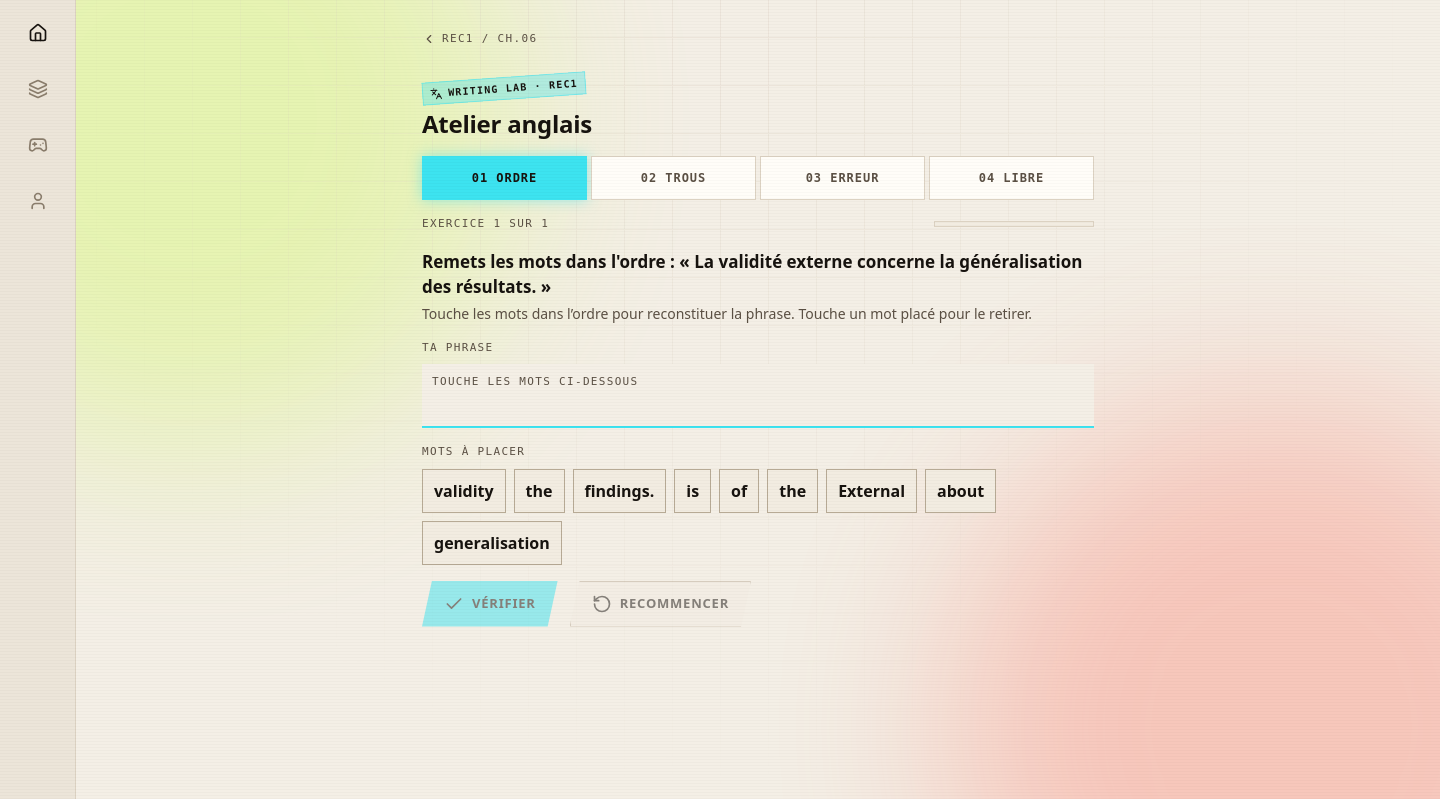
Test case: atelier anglais REC1-05 › niveau 4 : mots-clés trouvés / manquants, réponse modèle, checklist, tournures utiles
Check: the element named "Niveaux de l’atelier" is shown, box [422,156,1094,200]
Click the tab "04 LIBRE".
click(1012, 178)  # box [929,156,1094,200]
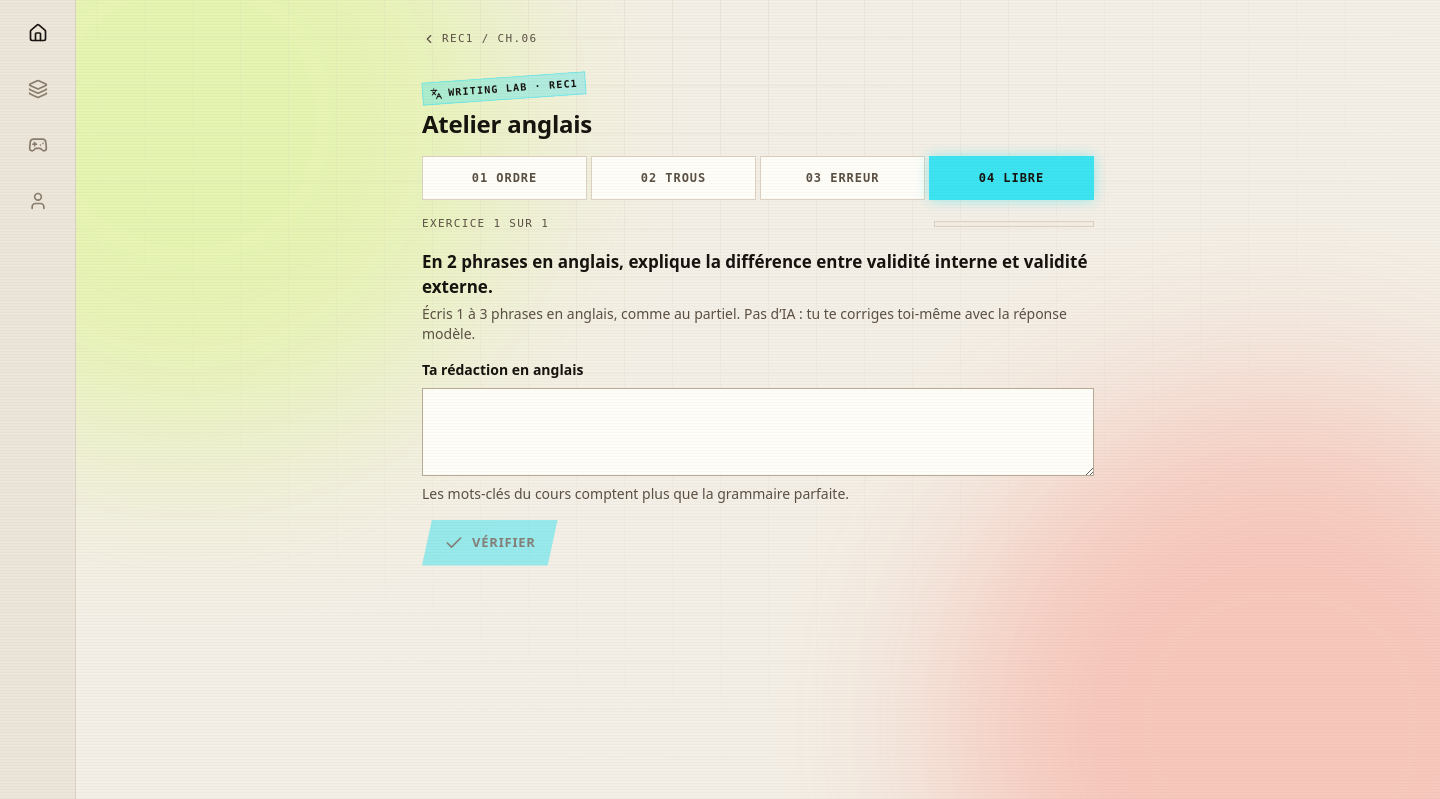
Check: the button "Vérifier" is disabled, box [422,520,558,566]
Type "Internal validity controls extraneous variables. External validity is about whether findings can be generalized." into the text box labelled "Ta rédaction en anglais".
click(758, 432); type("Internal validity controls extraneous variables. External validity is about whether findings can be generalized.")  # box [422,388,1094,476]
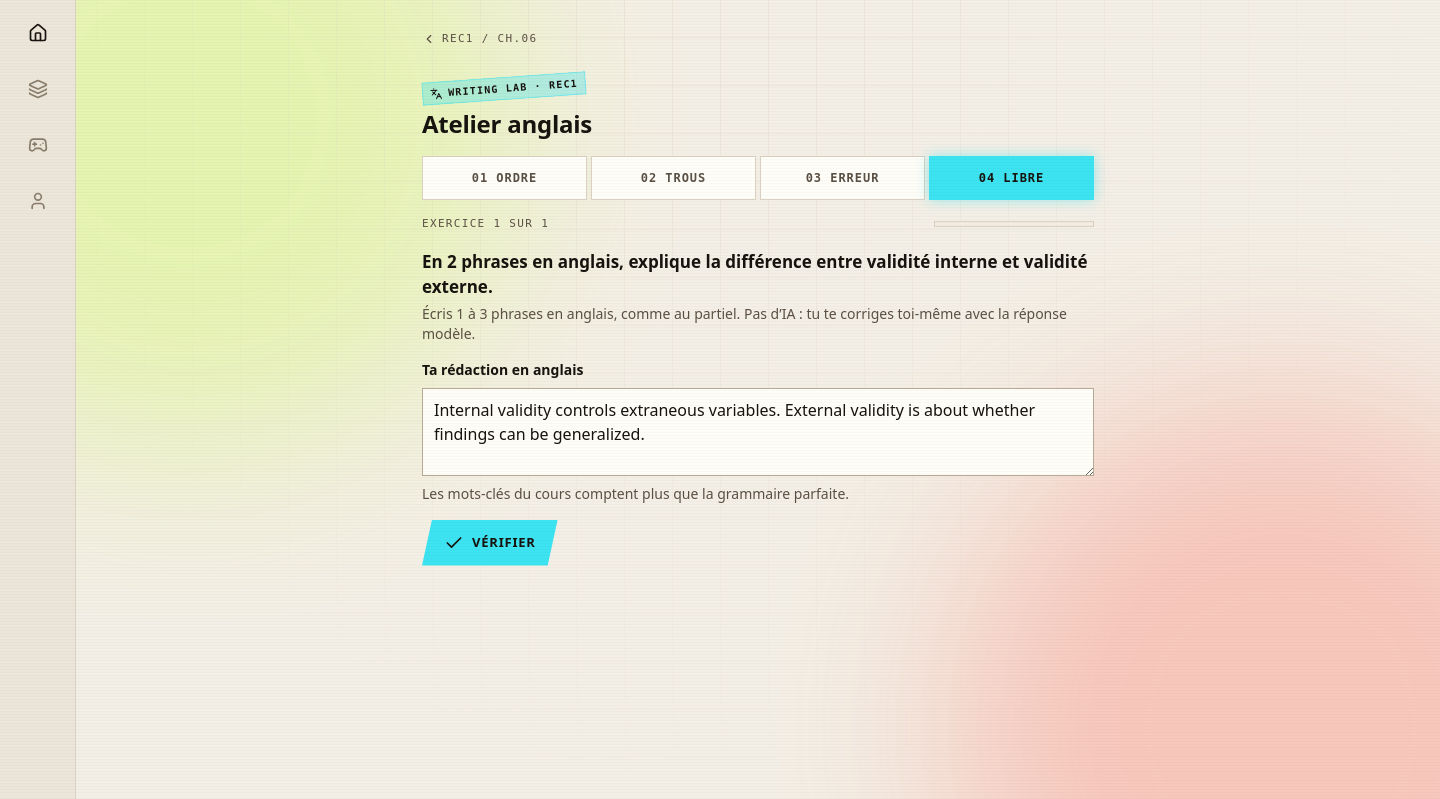
Click the button "Vérifier".
click(490, 542)  # box [422,520,558,566]
(page scrolled)
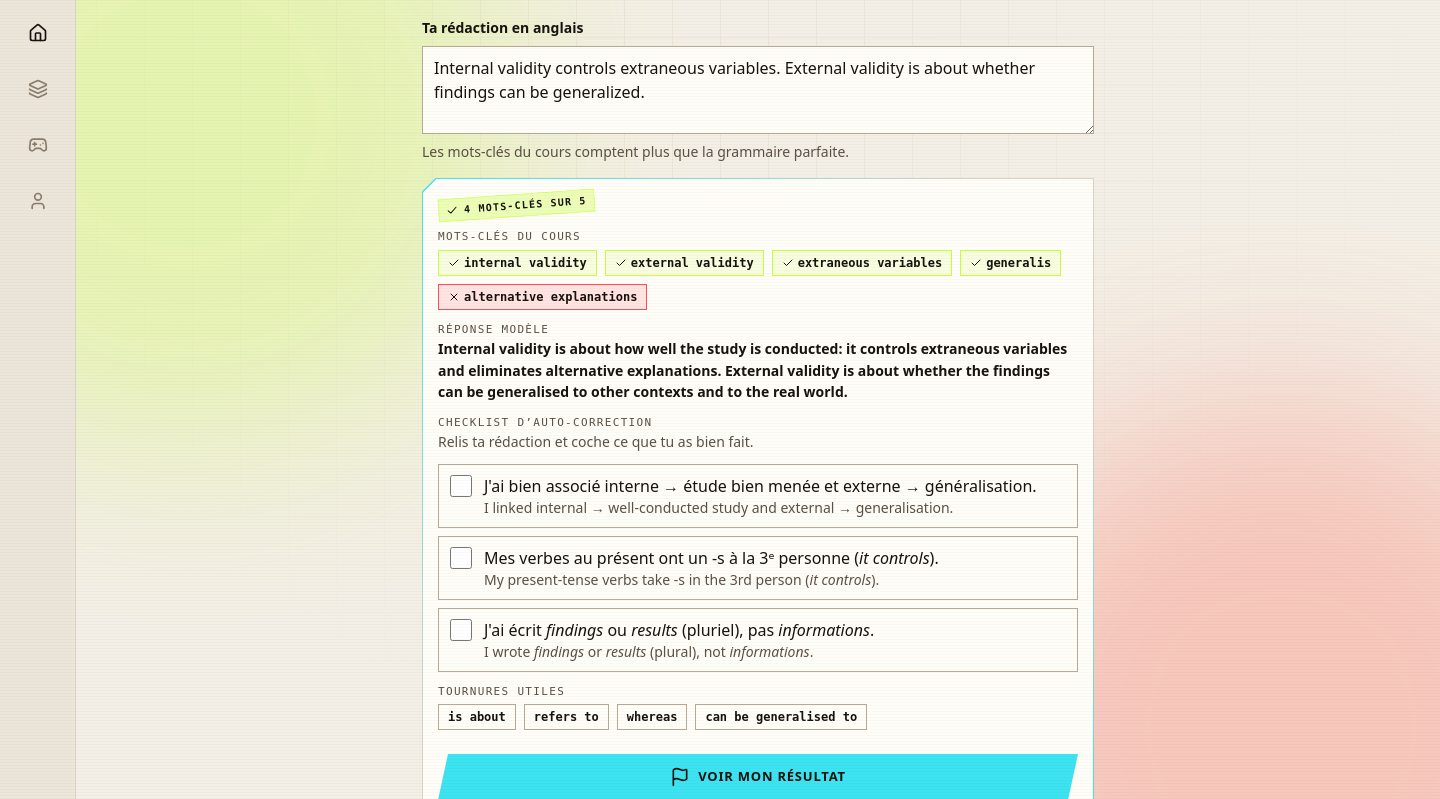
Check: the text "Réponse modèle" is shown, box [438,322,549,335]
Check: the number of checkboxes is 3, box [450,474,472,496]; [450,546,472,568]; [450,618,472,640]
Check: the list item "refers to" is shown, box [524,704,609,730]
